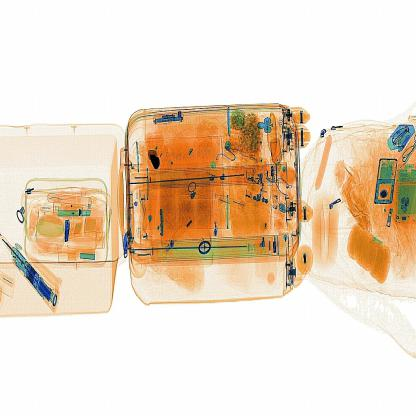wrench: (144, 148, 161, 178)
